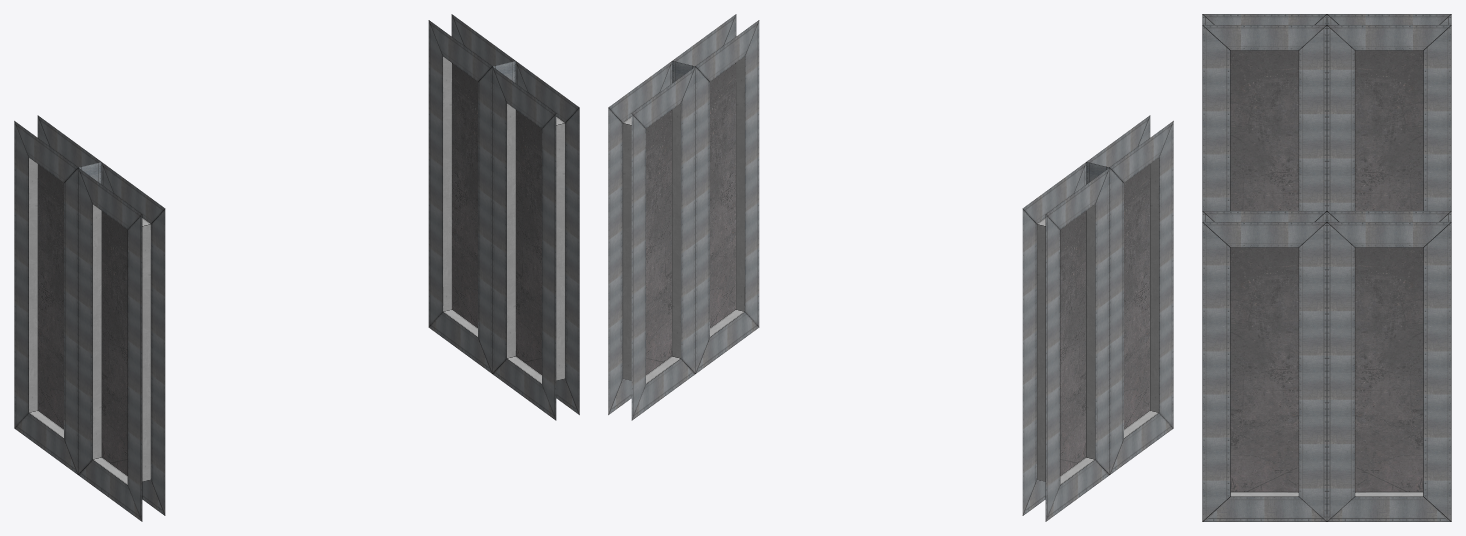
File: door.fbx
3 renders of one model, left to right at view 1: azimuth 30°, elevation 25°; view 2: azimuth 150°, elevation 25°; view 3: azimuth 270°, elevation 25°, orthographic. The views are drawn at different scales.
Visible parts, largest first — view 1: Cube.002, Cube.005, Cube.007, Cube.003; view 2: Cube.003, Cube.007, Cube.005, Cube.002; view 3: Cube.005, Cube.007, Cube.002, Cube.003.
Boxes of the visible parts, bbox=[...] form: Cube.002: bbox=[78, 162, 165, 521]; Cube.005: bbox=[492, 61, 579, 420]; Cube.007: bbox=[428, 14, 515, 373]; Cube.003: bbox=[14, 115, 101, 474]; Cube.003: bbox=[1022, 162, 1109, 521]; Cube.007: bbox=[608, 61, 695, 420]; Cube.005: bbox=[672, 14, 759, 373]; Cube.002: bbox=[1086, 115, 1173, 474]; Cube.005: bbox=[1202, 211, 1326, 521]; Cube.007: bbox=[1327, 211, 1451, 521]; Cube.002: bbox=[1202, 14, 1326, 210]; Cube.003: bbox=[1327, 14, 1451, 210].
Bounding box in the file's own units: 415 × 279 × 210.
